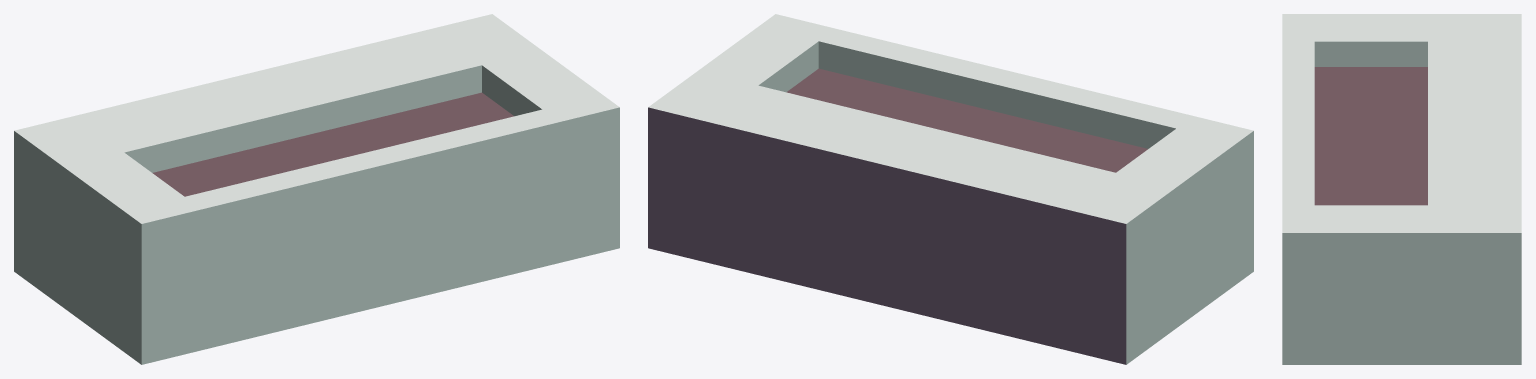
Rendered from PlanterBox_White01.glb.
3 renders of one model, left to right at view 1: azimuth 30°, elevation 25°; view 2: azimuth 150°, elevation 25°; view 3: azimuth 270°, elevation 25°, orthographic. The views are drawn at different scales.
Parts seen in each view (by area): view 1: PlanterBox_White01; view 2: PlanterBox_White01; view 3: PlanterBox_White01.
Boxes of the visible parts, box(x1,y1,x2,y2) form: PlanterBox_White01: box(14, 14, 619, 364); PlanterBox_White01: box(648, 14, 1253, 364); PlanterBox_White01: box(1282, 14, 1521, 364).
Size of the model in its own units: 0.9727 by 0.2738 by 0.4494.
1 material, 1 textured.
